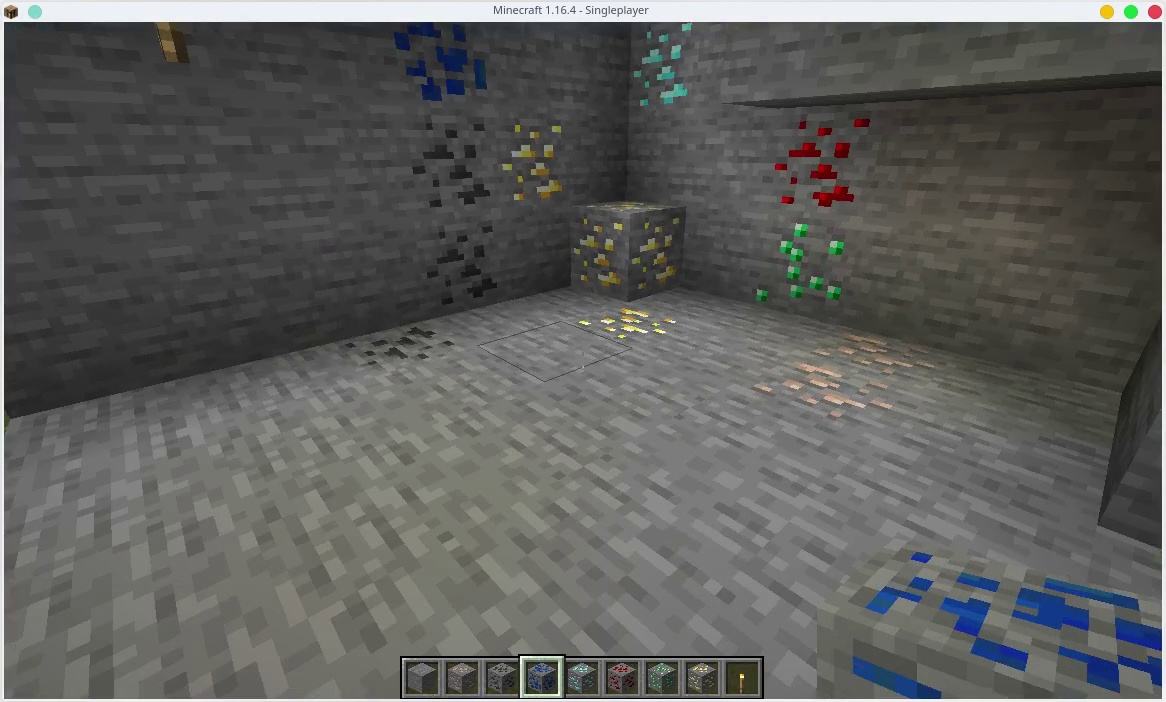gold: (570, 196, 685, 287), (487, 115, 565, 202), (558, 302, 692, 346), (685, 657, 717, 693)
